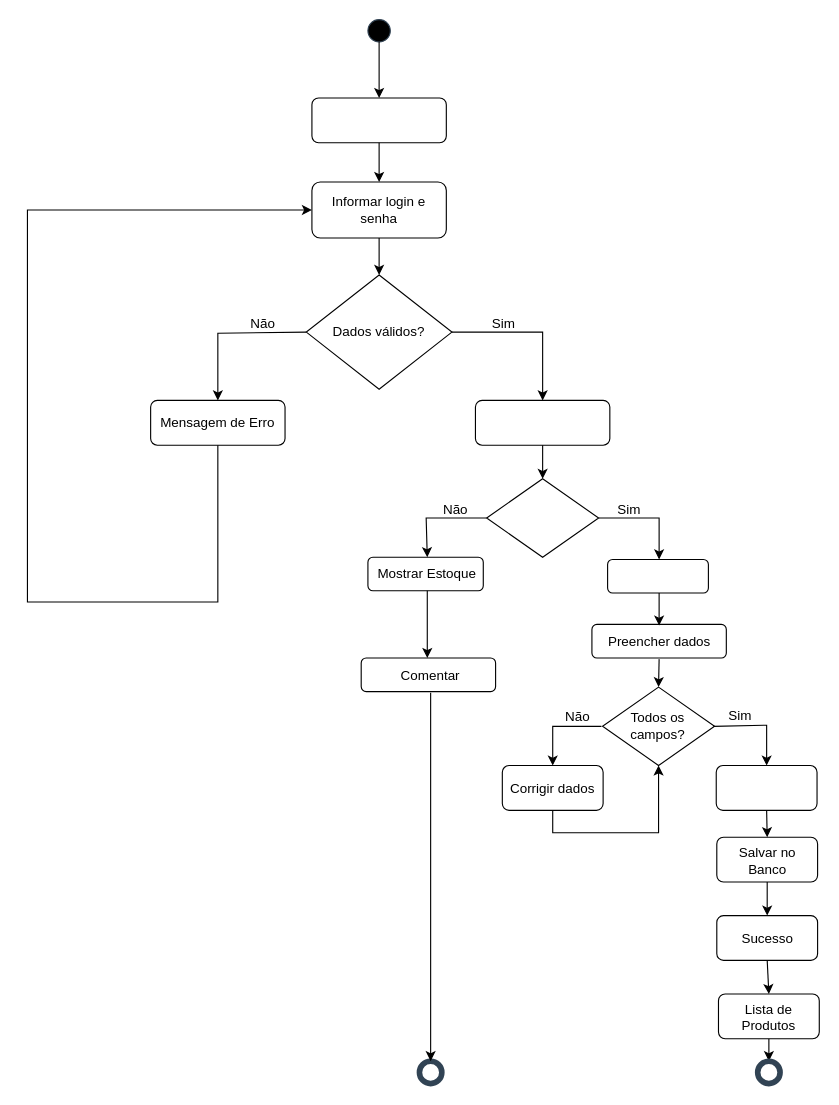
Some shapes in this 839 by 1105 pixel diagram are drawn without their labels. The shapes that lost their labels are listed below. From the top down, each one's box as (x1, y1, x2, y2) in pixels, then its label:
(311, 97, 446, 143): Acessar Sistema
(474, 399, 610, 445): Verificar tipo de usuário
(486, 478, 599, 557): É ADM?
(606, 558, 708, 593): Novo produto
(715, 764, 817, 810): Cadastrar Produto
